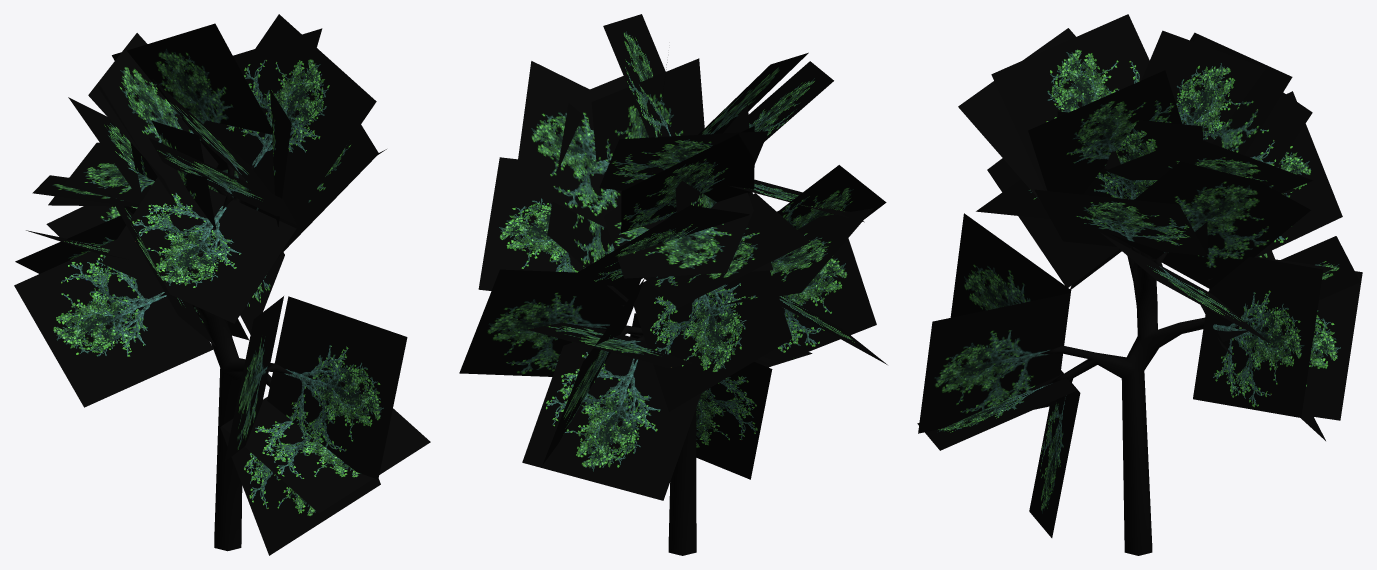
File: tree53.glb
3 renders of one model, left to right at view 1: azimuth 30°, elevation 25°; view 2: azimuth 150°, elevation 25°; view 3: azimuth 270°, elevation 25°, orthographic. The views are drawn at different scales.
Size of the model in its own units: 4.94 by 6.84 by 5.32.
Materials: 2 (1 with a texture image).
